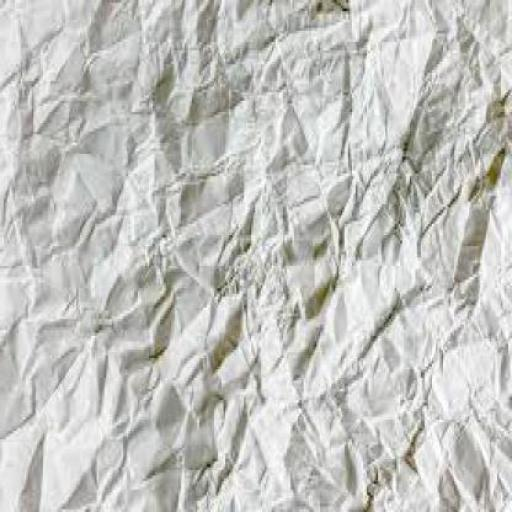paper: (1, 2, 511, 511)
